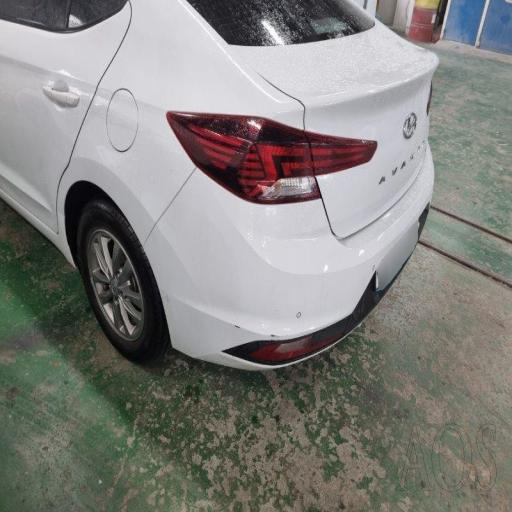scratch: (254, 146, 341, 220)
